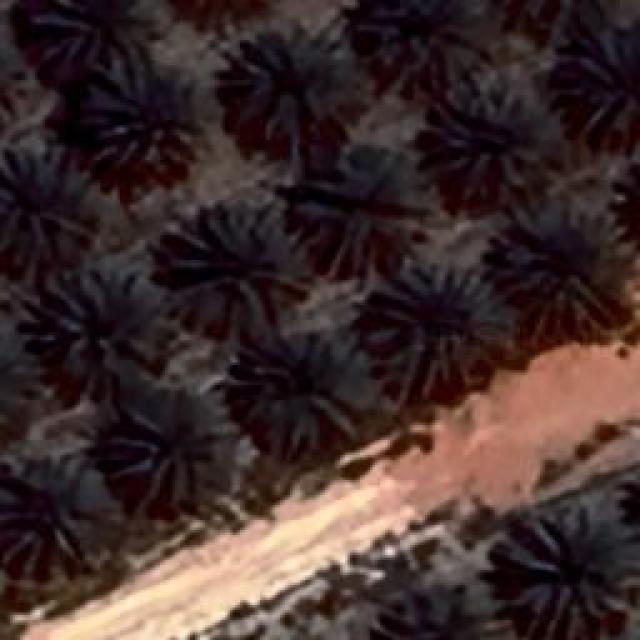PalmTree: (17, 55, 438, 612), (206, 22, 364, 152), (276, 145, 429, 263), (235, 320, 370, 445), (104, 378, 228, 514), (370, 262, 500, 390), (160, 210, 302, 325), (425, 75, 550, 203), (28, 274, 166, 388), (500, 514, 625, 628), (495, 200, 623, 310), (80, 52, 198, 170), (0, 463, 112, 568), (354, 0, 482, 85), (0, 160, 92, 275), (18, 0, 140, 65), (572, 28, 638, 130), (0, 330, 32, 446), (486, 0, 630, 22), (162, 0, 282, 26), (164, 0, 280, 16), (624, 149, 640, 253), (630, 151, 640, 254)
